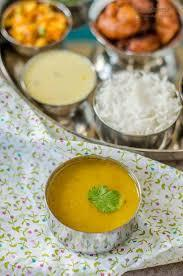rice: (103, 69, 178, 145)
varan: (48, 153, 129, 240)
